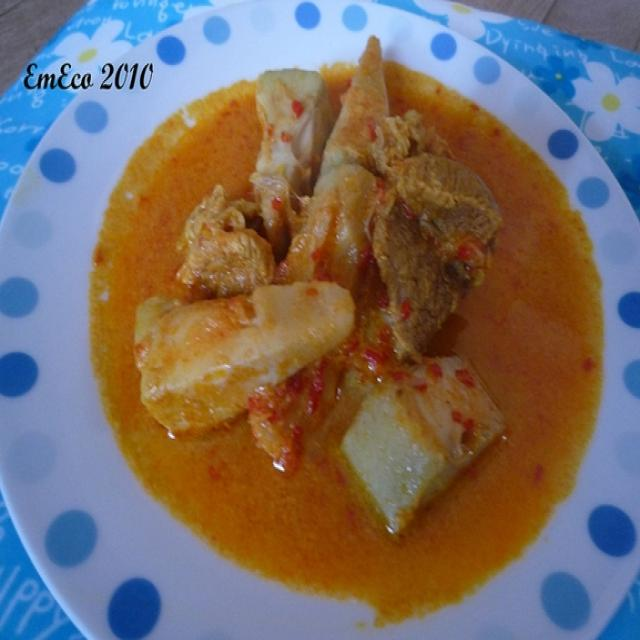熟制海鲜: (30, 13, 626, 628)
